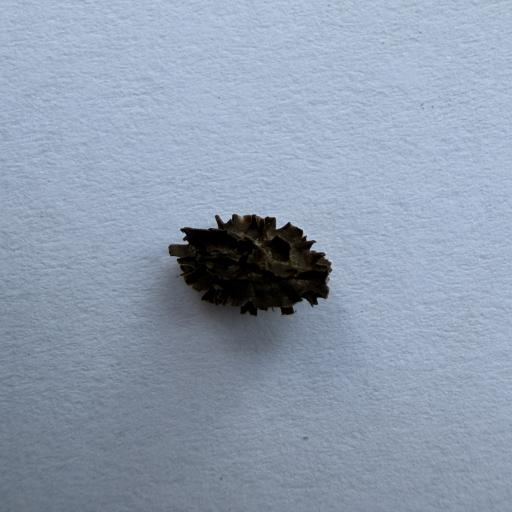papaya_seed: (160, 214, 358, 328)
